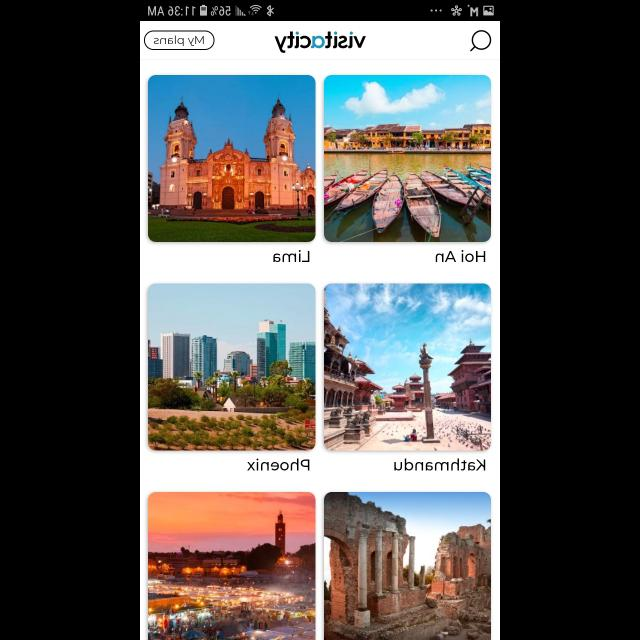icon: (470, 30, 490, 52)
image: (148, 284, 316, 452), (324, 283, 491, 451), (324, 76, 491, 242), (148, 76, 314, 242), (148, 492, 316, 640), (324, 492, 491, 640), (274, 31, 366, 53)
text: (394, 458, 484, 470), (247, 458, 310, 470), (435, 250, 485, 262), (274, 250, 310, 262)
textbutton: (143, 31, 214, 51)
uppertaskbar: (140, 1, 500, 22)
